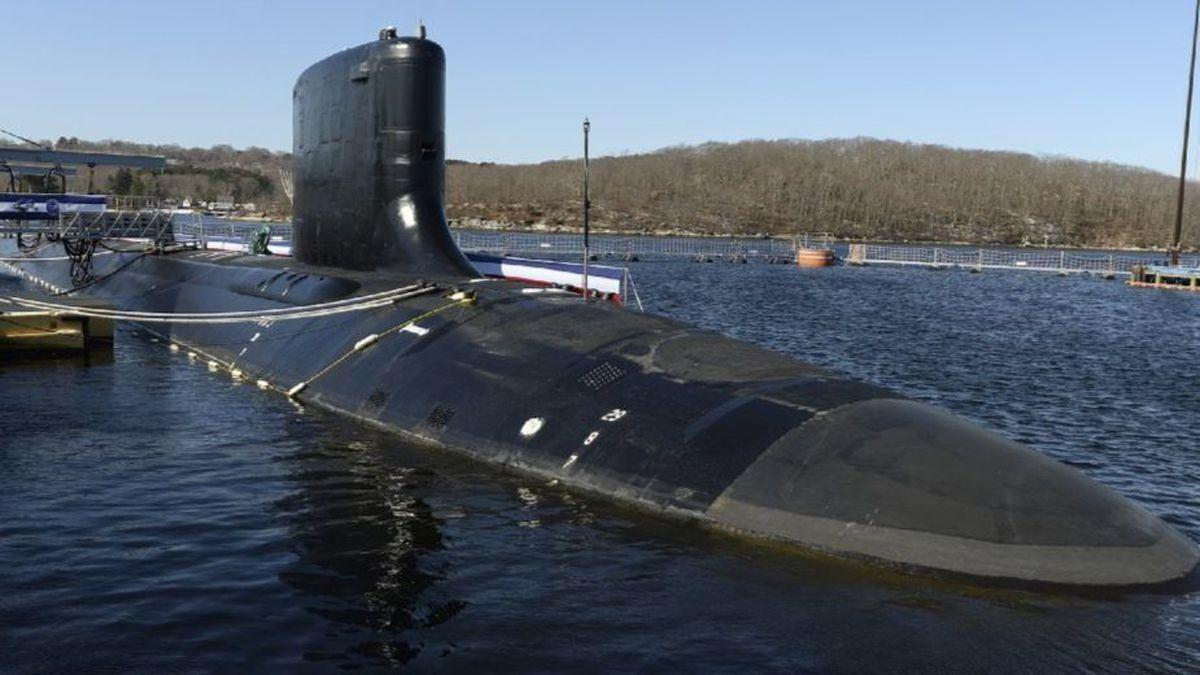Submarine: (47, 23, 1200, 622)
